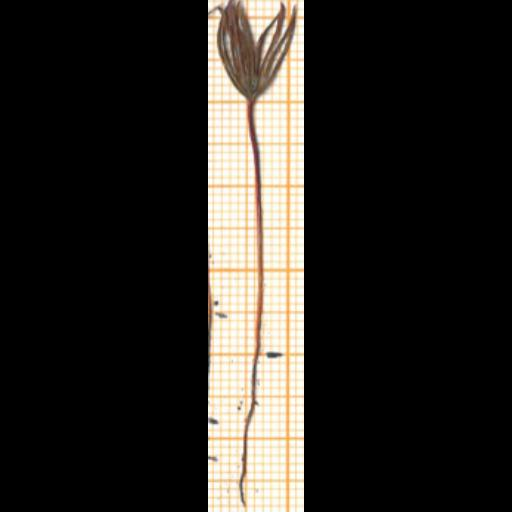flowerPinus: (217, 0, 297, 102)
rootPinus: (239, 351, 259, 510)
stemPinus: (247, 101, 265, 356)
